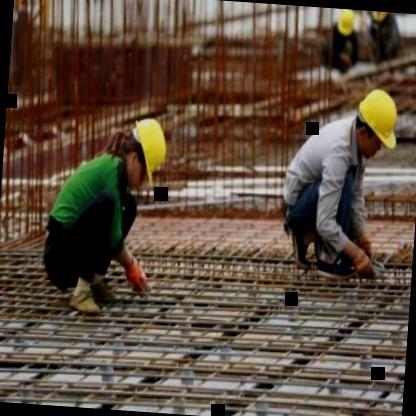head: (118, 114, 172, 190)
helmet: (346, 86, 400, 162)
